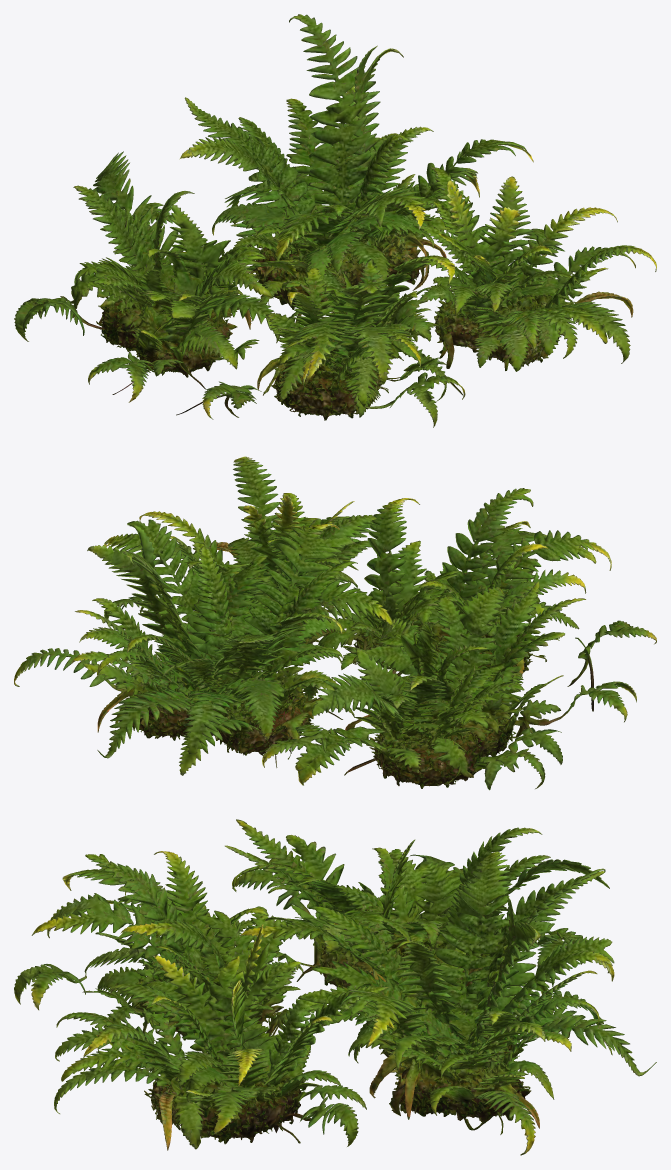
The model's file is fern-frond-clump.glb.
The picture shows the model from 3 angles, top to bottom: view 1: azimuth 30°, elevation 25°; view 2: azimuth 150°, elevation 25°; view 3: azimuth 270°, elevation 25°; orthographic projection. The views are drawn at different scales.
Bounding box in the file's own units: 1.9 × 0.7924 × 1.88.
1 material, 1 textured.
